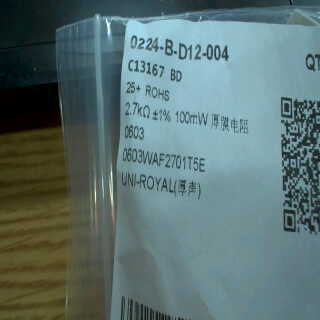2.7kR: (122, 100, 152, 120)
